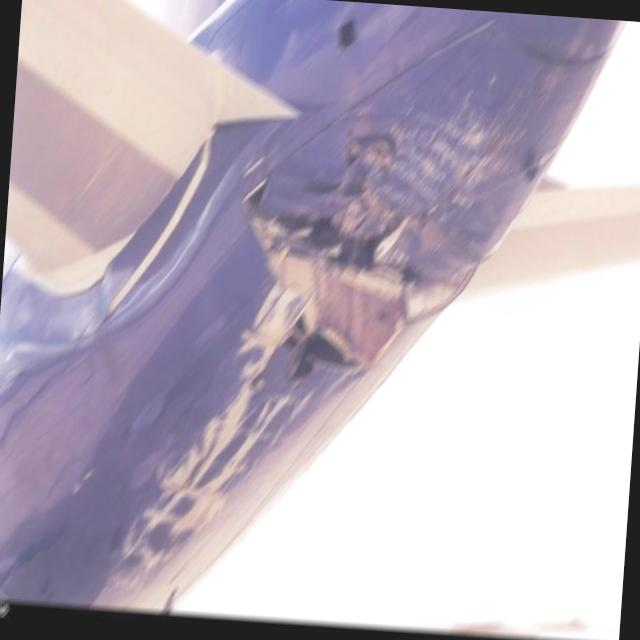crack: (228, 169, 430, 387)
